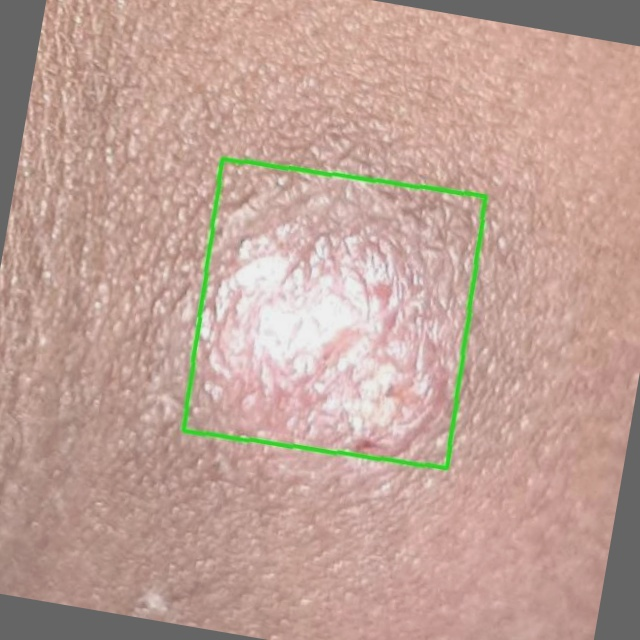Contact Dermatitis: (182, 159, 485, 468)
